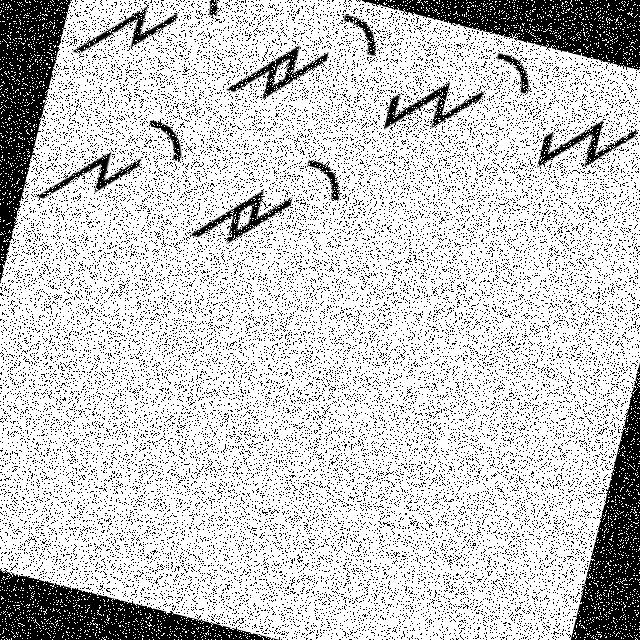lay: (36, 91, 200, 238), (67, 0, 231, 91)
ray: (183, 124, 360, 284), (218, 0, 388, 133)
yay: (374, 16, 543, 166), (525, 56, 639, 206)
